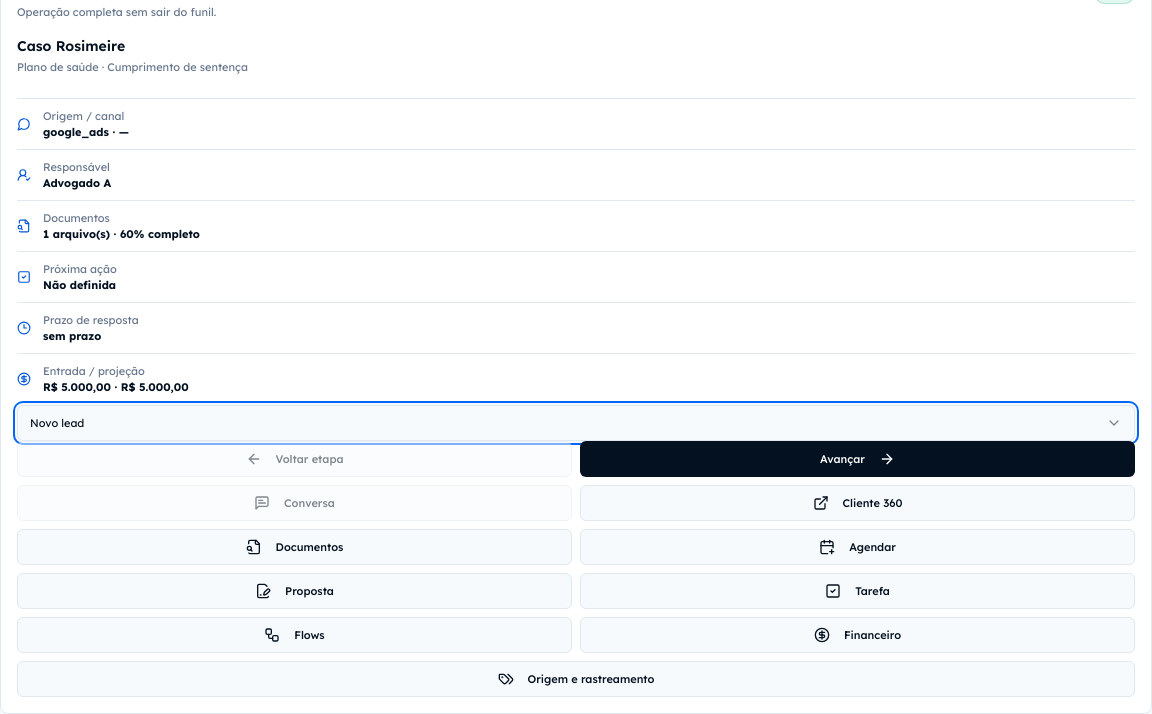
Celebração de caso ganho no funil › dispara a celebração ao mover um card para a etapa de ganho
(page scrolled)
Press ArrowDown in the dropdown named "Mover lead para etapa", box [17,405,1135,441]
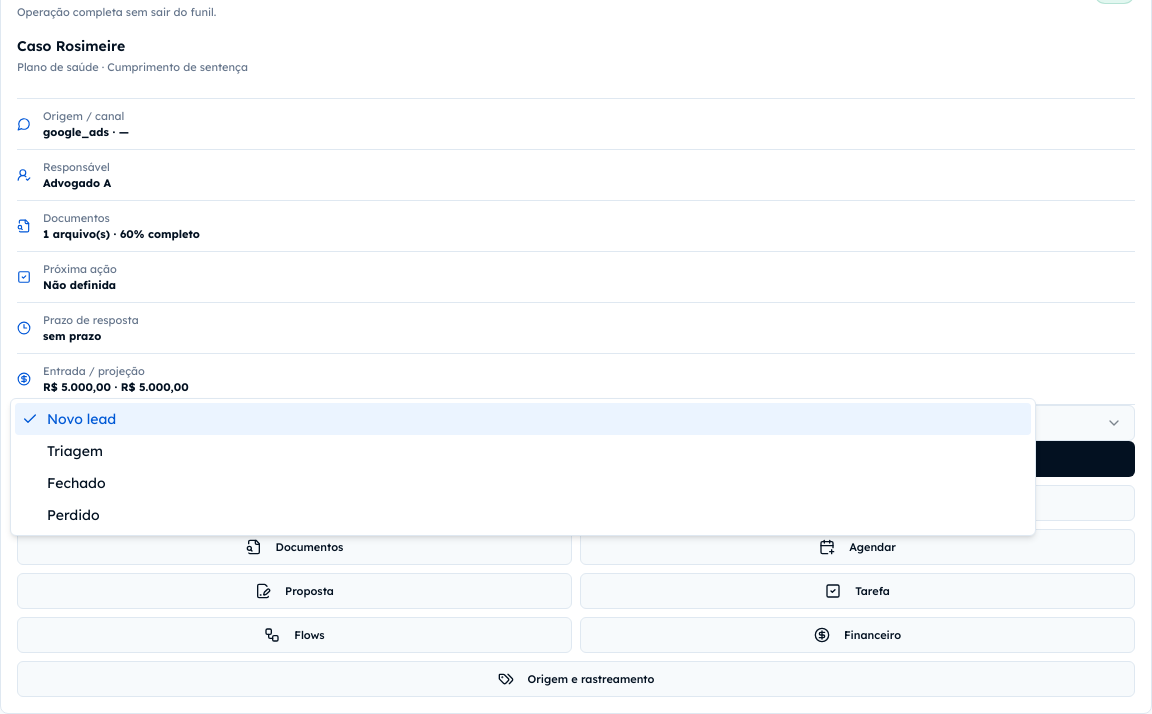
Click the option "Fechado" at x=76, y=483, box [47,474,106,492]
(page scrolled)
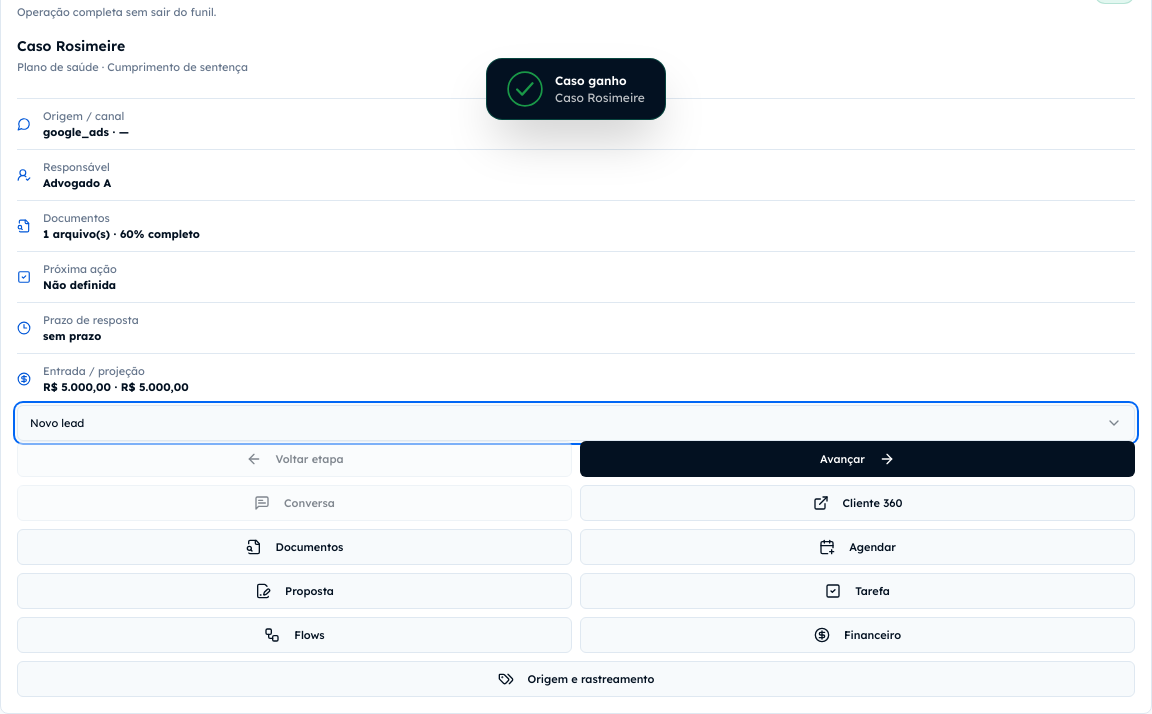
Check: the message "Caso ganho Caso Rosimeire" is shown, box [486,58,666,120]
Check: the text "Caso Rosimeire" is shown, box [555,90,645,105]
